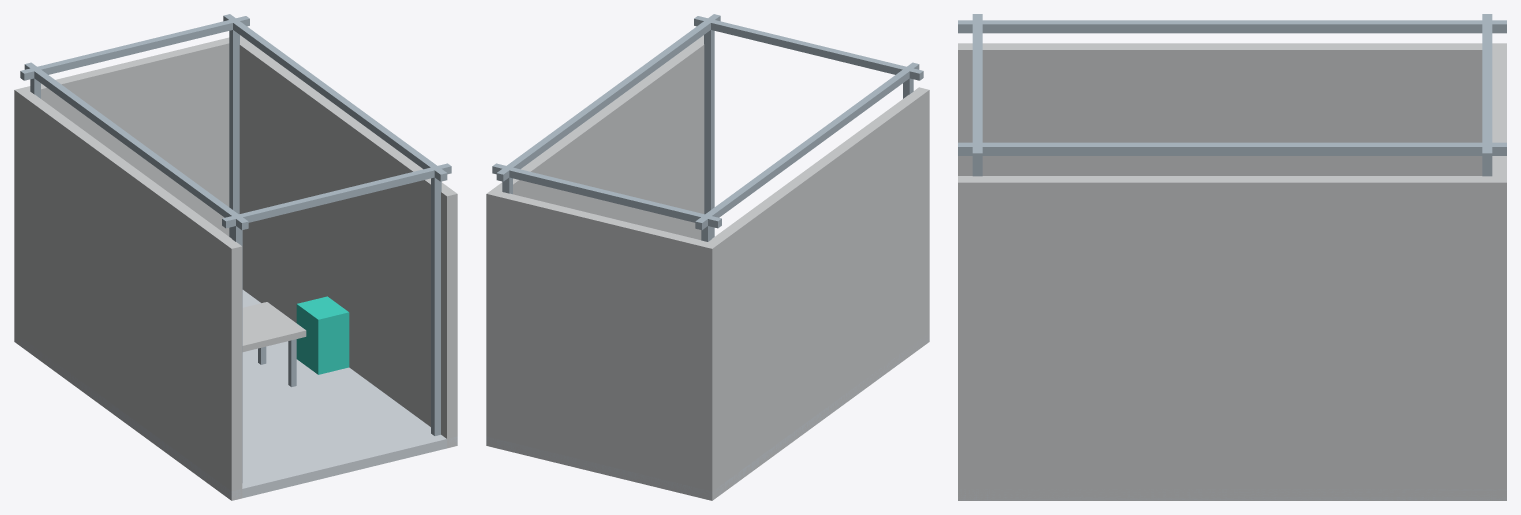
The picture shows the model from 3 angles, left to right: view 1: azimuth 30°, elevation 25°; view 2: azimuth 150°, elevation 25°; view 3: azimuth 270°, elevation 25°; orthographic projection. The views are drawn at different scales.
Parts seen in each view (by area): view 1: Exhibition Booth Concept; view 2: Exhibition Booth Concept; view 3: Exhibition Booth Concept.
Part boxes in pixels (box(x1,y1,x2,y2)): Exhibition Booth Concept: box(14, 14, 457, 500); Exhibition Booth Concept: box(486, 14, 929, 500); Exhibition Booth Concept: box(958, 14, 1506, 500).
Size of the model in its own units: 3 by 3.49 by 5.
